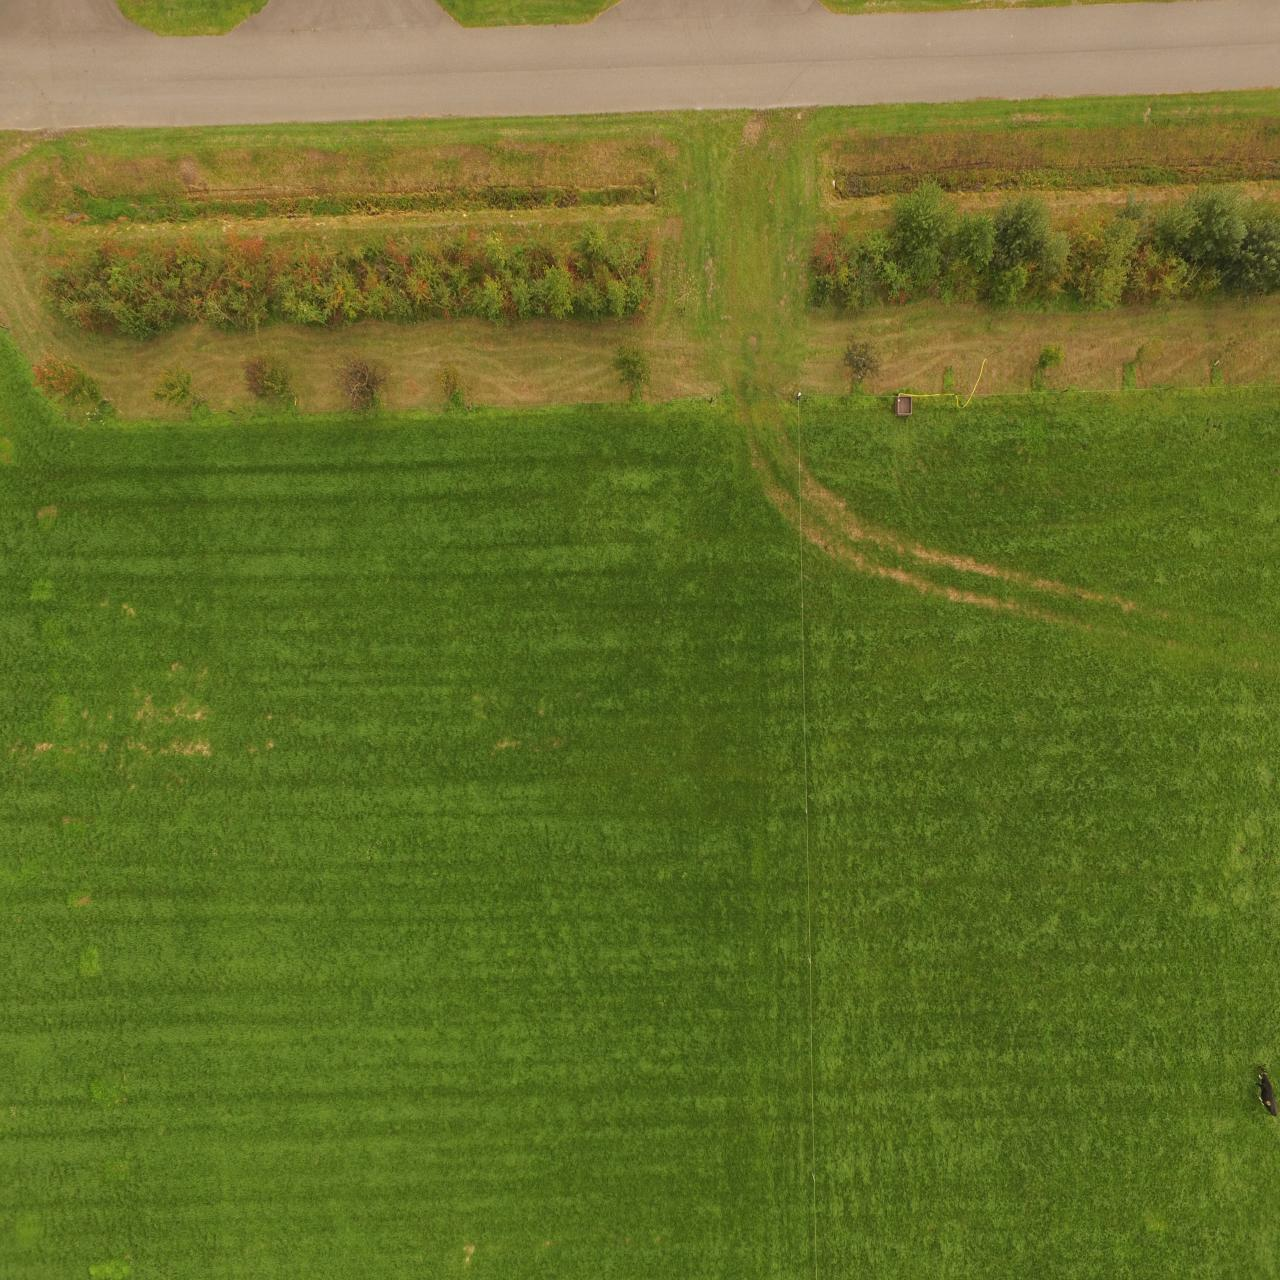cow: (1258, 1063, 1278, 1118)
